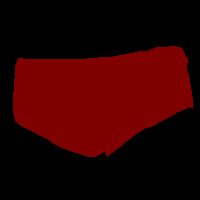mutande: (13, 46, 193, 157)
